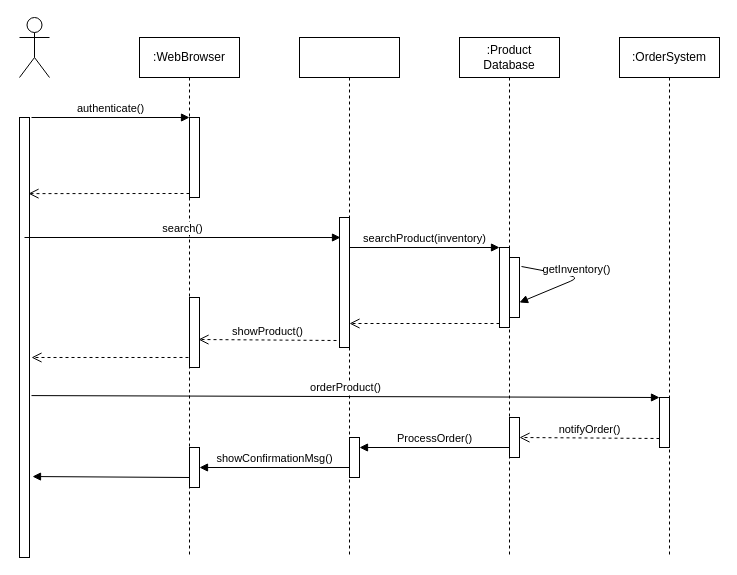
Image size: 737x575. Some labels were removed from this diagram. The shapes that lost their labels are listed below. From the top down, each one's centre as x and y in pixels, then its label:
At (x=34, y=47): "Actor".
At (x=349, y=297): ":Amazon".
